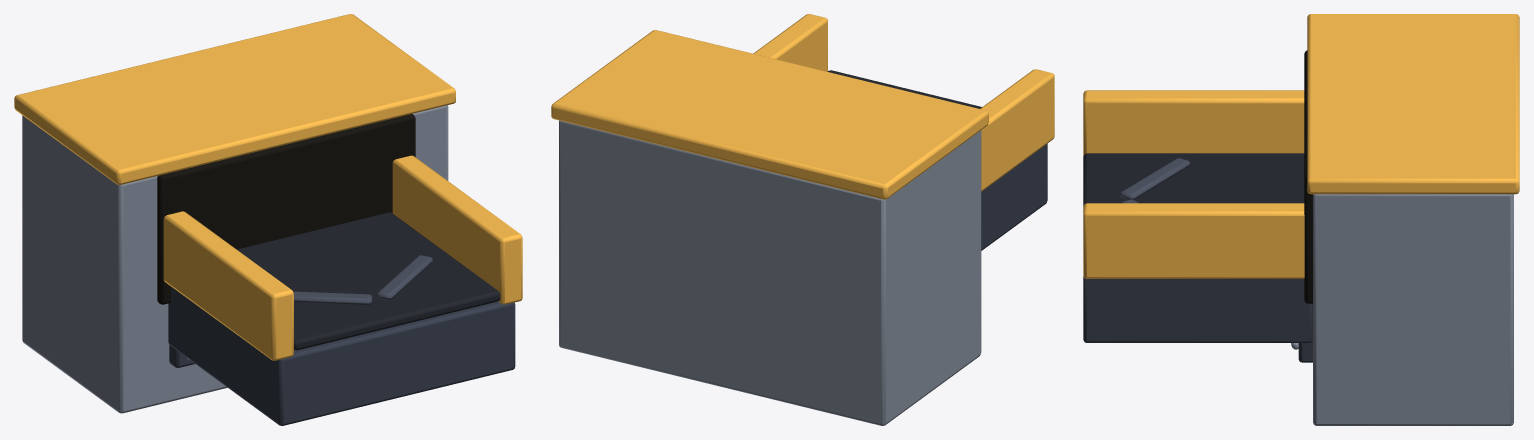
The model's file is uebergabe_saeule.fbx.
The picture shows the model from 3 angles, left to right: view 1: azimuth 30°, elevation 25°; view 2: azimuth 150°, elevation 25°; view 3: azimuth 270°, elevation 25°; orthographic projection.
Parts seen in each view (by area): view 1: uebergabe_saeule_Koerper; view 2: uebergabe_saeule_Koerper; view 3: uebergabe_saeule_Koerper.
Boxes of the visible parts, box(x1,y1,x2,y2) form: uebergabe_saeule_Koerper: box(14, 14, 522, 425); uebergabe_saeule_Koerper: box(551, 14, 1054, 425); uebergabe_saeule_Koerper: box(1083, 14, 1519, 425).
Bounding box in the file's own units: 1.38 × 0.96 × 1.52.
